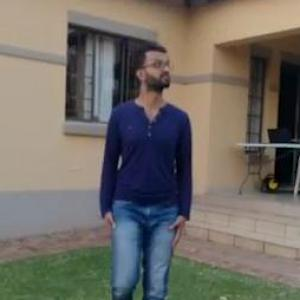follow: (103, 40, 191, 293)
